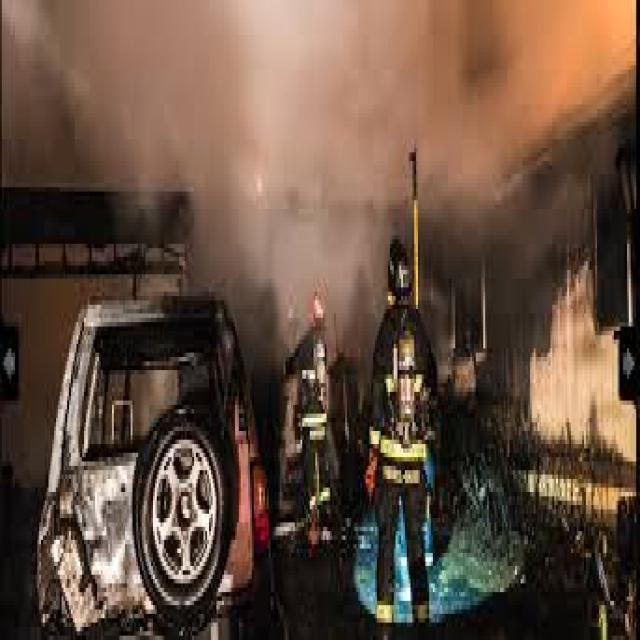Smoke: (134, 4, 638, 309)
